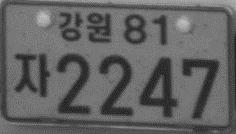1: (150, 13, 172, 45)
2: (98, 52, 134, 116), (55, 52, 91, 115)
4: (138, 57, 178, 118)
7: (181, 57, 221, 120)
8: (123, 13, 147, 45)
강원_H: (57, 10, 113, 42)
자: (14, 52, 51, 97)
